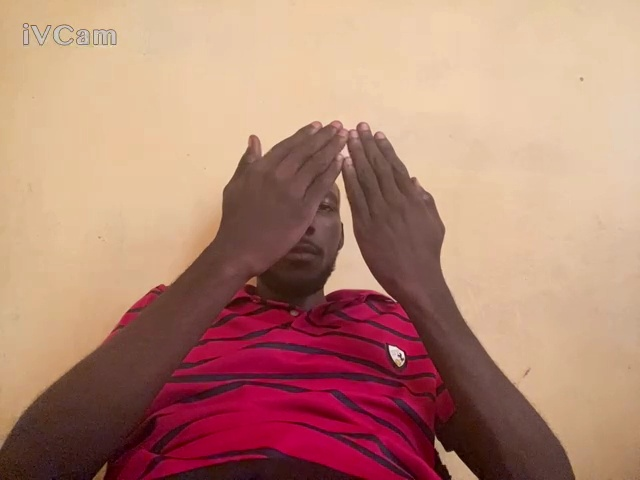Merci: (214, 114, 458, 288)
